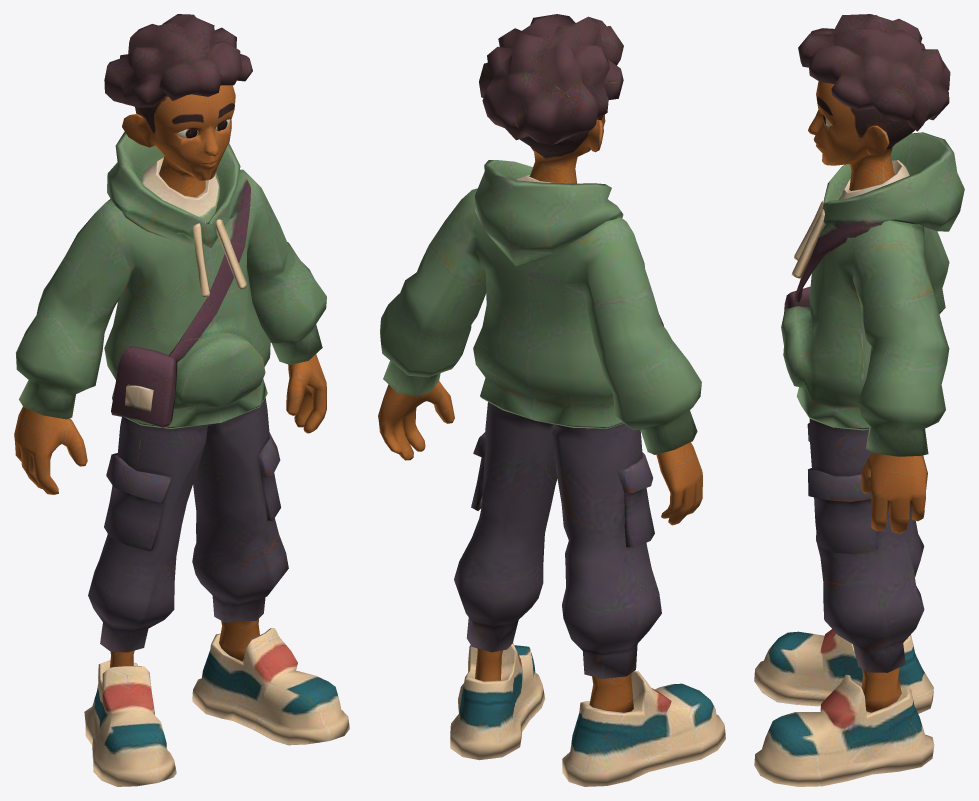
File: Hoodie_Adventurer.glb
3 views of the same model, side by side, from view 1: azimuth 30°, elevation 25°; view 2: azimuth 150°, elevation 25°; view 3: azimuth 270°, elevation 25° (orthographic). The views are drawn at different scales.
Parts seen in each view (by area): view 1: geometry_0; view 2: geometry_0; view 3: geometry_0.
Part boxes in pixels (left/top/right/bottom): geometry_0: left=14, top=14, right=349, bottom=786; geometry_0: left=378, top=14, right=725, bottom=786; geometry_0: left=754, top=14, right=964, bottom=786.
Bounding box in the file's own units: 0.4509 × 1 × 0.2702.
Materials: 1 (1 with a texture image).
